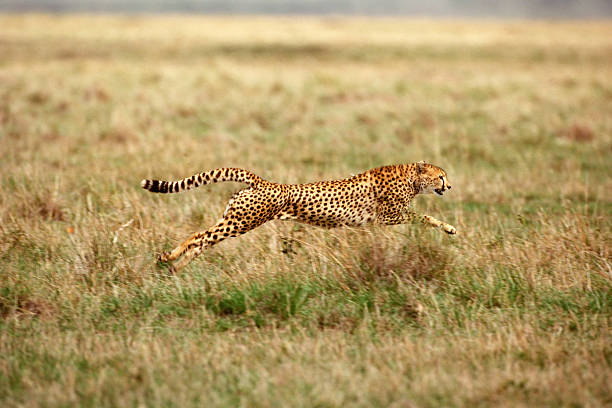cheetah: (410, 156, 457, 202)
